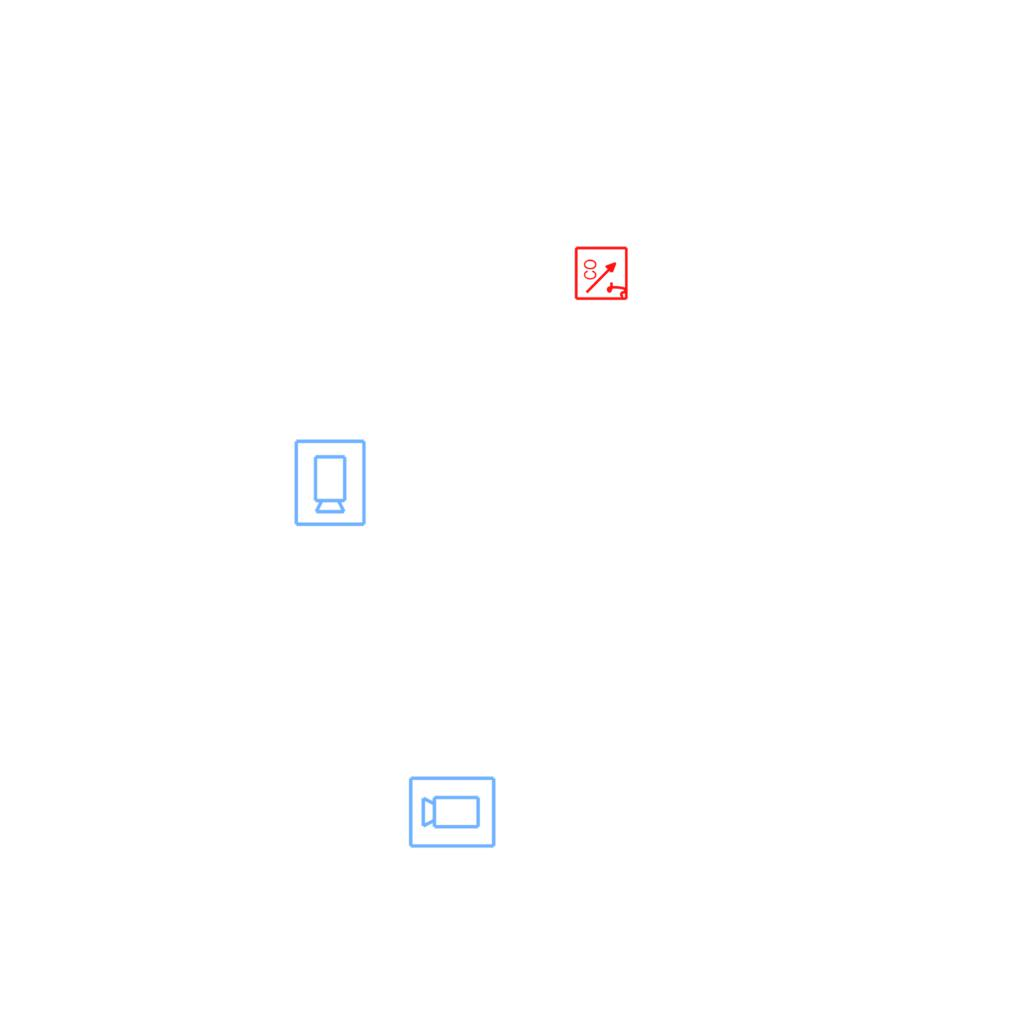KFO_Kamera_mit_Festobjektiv: (291, 437, 368, 528), (407, 773, 498, 850)
ROA_Rauchmelder_optisch_mit_Signalgeber_(Sockelsirene): (574, 245, 630, 301)
